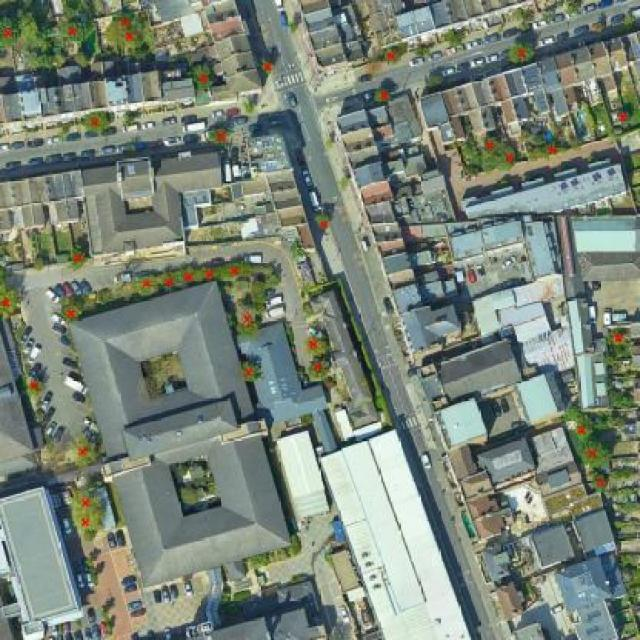tree: (18, 1, 58, 68), (60, 18, 94, 65), (104, 32, 158, 59), (459, 131, 503, 162), (574, 438, 614, 470), (519, 133, 570, 158), (102, 12, 155, 36), (70, 431, 101, 466), (66, 490, 103, 518), (472, 148, 520, 169), (612, 378, 638, 413), (604, 323, 633, 352), (0, 275, 20, 317), (568, 410, 594, 442), (602, 106, 638, 129), (585, 464, 613, 493), (80, 110, 112, 135), (235, 305, 260, 336), (189, 62, 214, 93), (95, 602, 117, 636), (302, 355, 331, 379), (218, 260, 249, 282), (131, 276, 160, 298), (71, 512, 97, 536), (303, 335, 332, 356), (237, 361, 265, 382), (0, 16, 17, 50), (507, 43, 535, 63), (177, 485, 201, 507), (70, 242, 87, 273), (59, 301, 84, 322), (84, 557, 101, 586), (372, 85, 396, 105), (383, 44, 403, 67), (155, 272, 177, 291), (286, 7, 302, 33), (23, 377, 46, 395), (196, 265, 219, 283), (208, 127, 231, 145), (249, 286, 269, 306), (289, 237, 306, 260), (611, 466, 638, 480), (289, 532, 303, 558), (256, 57, 276, 75), (248, 555, 271, 570), (313, 213, 332, 230), (178, 269, 196, 286), (232, 588, 253, 601), (263, 272, 280, 286), (32, 256, 45, 272), (242, 101, 256, 114)
